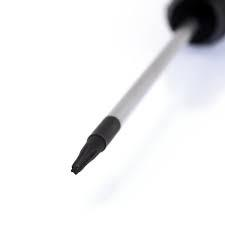screwdriver: (70, 0, 224, 175)
